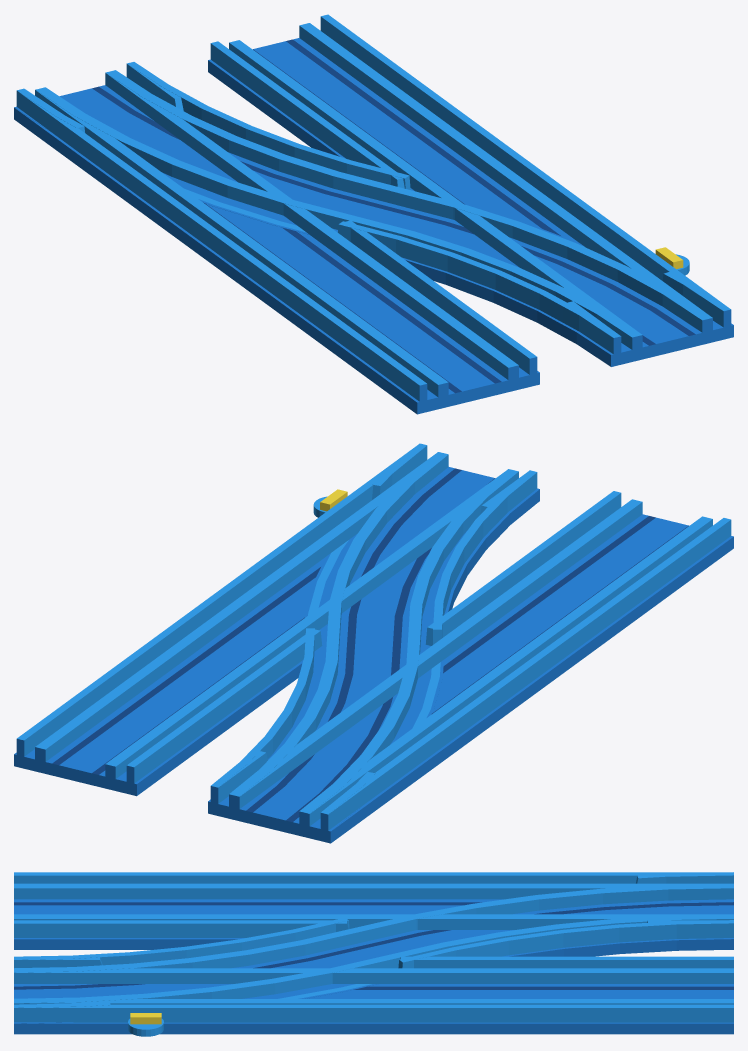
The model's file is Track_Double_Cross_Left.fbx.
3 renders of one model, top to bottom at view 1: azimuth 30°, elevation 25°; view 2: azimuth 150°, elevation 25°; view 3: azimuth 270°, elevation 25°, orthographic. The views are drawn at different scales.
Visible parts, largest first — view 1: Molded blue rail crossing, Molded blue rail to, Molded blue rail from; view 2: Molded blue rail to, Molded blue rail crossing, Molded blue rail from; view 3: Molded blue rail from, Molded blue rail crossing, Molded blue rail to, Lever base, Lever handle.
Part boxes in pixels (x1=…): Molded blue rail crossing: x1=14, y1=62, x2=733, y2=366; Molded blue rail to: x1=14, y1=64, x2=539, y2=414; Molded blue rail from: x1=208, y1=14, x2=733, y2=366; Molded blue rail to: x1=217, y1=491, x2=733, y2=843; Molded blue rail crossing: x1=208, y1=443, x2=539, y2=831; Molded blue rail from: x1=14, y1=446, x2=524, y2=796; Molded blue rail from: x1=14, y1=956, x2=733, y2=1034; Molded blue rail crossing: x1=14, y1=872, x2=733, y2=1023; Molded blue rail to: x1=14, y1=872, x2=733, y2=949; Lever base: x1=128, y1=1018, x2=163, y2=1036; Lever handle: x1=130, y1=1013, x2=161, y2=1024.
Size of the model in its own units: 295 by 23.31 by 600.
